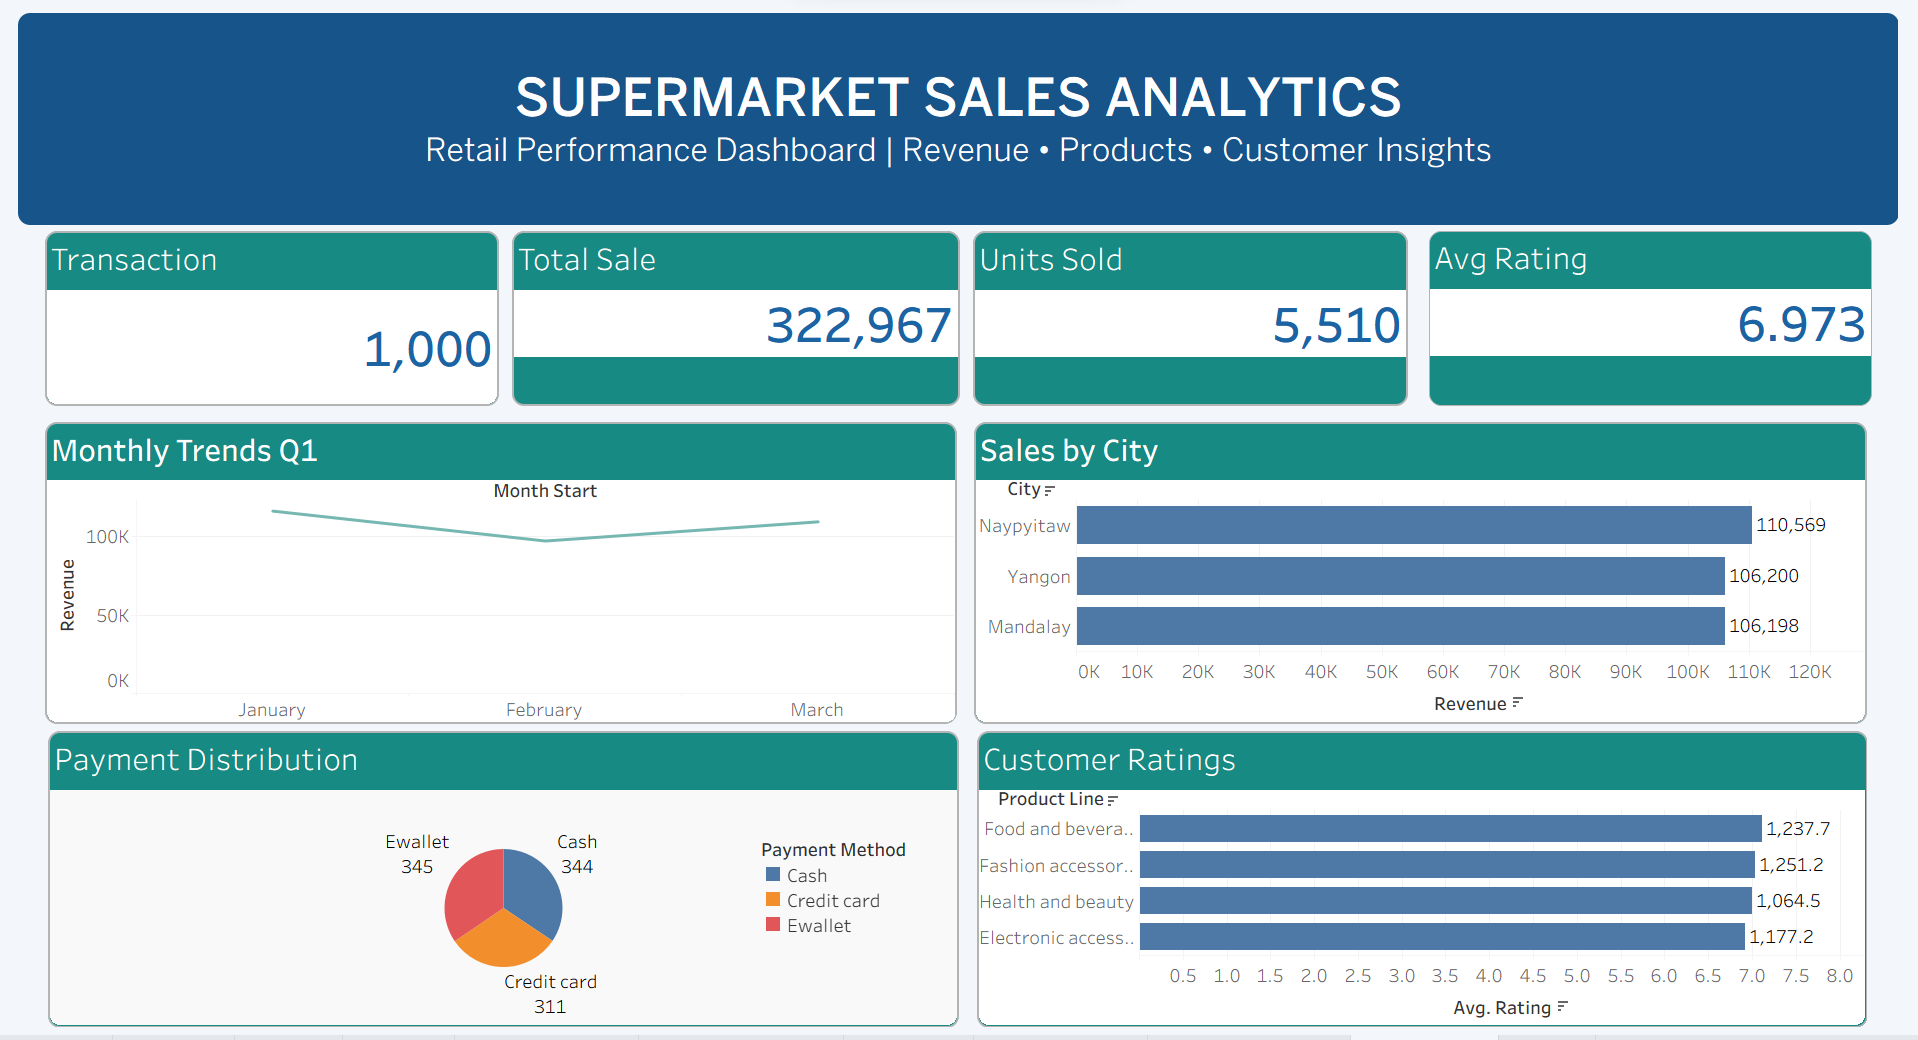

What the dashboard file says about the page in this screenshot:
{"tool":"tableau","page":{"name":"Dashboard 1","canvas":[1000,1000],"units":"permille","ordinal":0},"visuals":[{"type":"text","box":[9.3,12.4,979.4,204.7]},{"type":"worksheet","title":"Transaction","mark":"Automatic","box":[23.7,223.3,236.3,168.7]},{"type":"worksheet","title":"Sheet 10","mark":"Automatic","box":[266.8,223.3,233.2,168.7]},{"type":"worksheet","title":"Units Sold","mark":"Automatic","box":[506.9,223.3,226.3,168.7]},{"type":"worksheet","title":"Avg Rating","mark":"Automatic","box":[744.4,223.3,230.7,168.7]},{"type":"worksheet","title":"Monthly Trends Q1","mark":"Line","rows":["revenue"],"cols":["Calculation_1357132386488322"],"box":[23.7,408.2,475.1,291.6]},{"type":"worksheet","title":"Sales by City","mark":"Automatic","rows":["city"],"cols":["revenue"],"box":[507.5,408.2,465.1,291.6]},{"type":"worksheet","title":"Payment Distribution","mark":"Pie","box":[24.9,706,474.4,286.6]},{"type":"worksheet","title":"Customer Ratings","mark":"Automatic","rows":["product_line"],"cols":["rating"],"box":[508.7,706,463.8,286.6]},{"type":"legend","title":"Payment Distribution","param":"[federated.0hgiuu90kx9h3w1h0snv60ogv7hf].[none:payment_method:nk]","box":[396.5,807.7,87.3,125.3]}]}

Visuals, with their boxes on the dashboard's canvas, which has no fixed pixel size, in thousandths of its width and height (x1, y1, x2, y2). These are canvas units, not pixel positions in the 1918x1040 screenshot, which may show the page scaled, cropped or inside an application window:
text: 9:12:989:217
"Transaction" worksheet: 24:223:260:392
"Sheet 10" worksheet: 267:223:500:392
"Units Sold" worksheet: 507:223:733:392
"Avg Rating" worksheet: 744:223:975:392
"Monthly Trends Q1" worksheet (Line marks): 24:408:499:700
"Sales by City" worksheet: 508:408:973:700
"Payment Distribution" worksheet (Pie marks): 25:706:499:993
"Customer Ratings" worksheet: 509:706:972:993
"Payment Distribution" legend: 396:808:484:933
